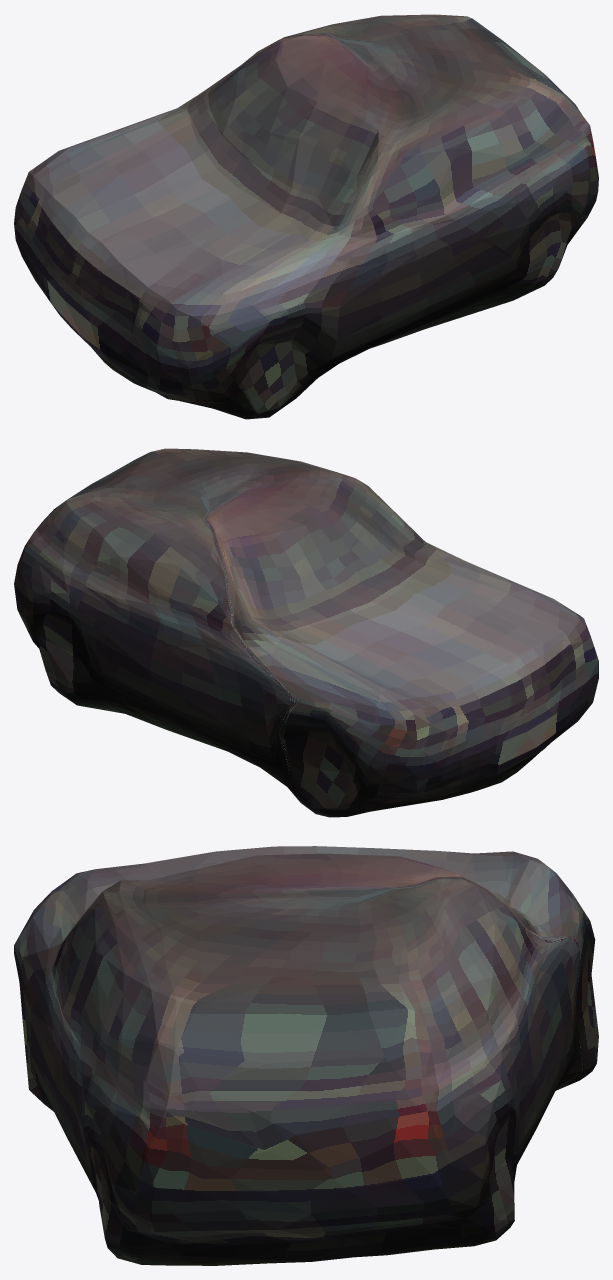
The model's file is video3_400.obj.
3 views of the same model, one above another, from view 1: azimuth 30°, elevation 25°; view 2: azimuth 150°, elevation 25°; view 3: azimuth 270°, elevation 25° (orthographic). The views are drawn at different scales.
Size of the model in its own units: 1 by 0.4823 by 0.7189.
1 material, 1 textured.
